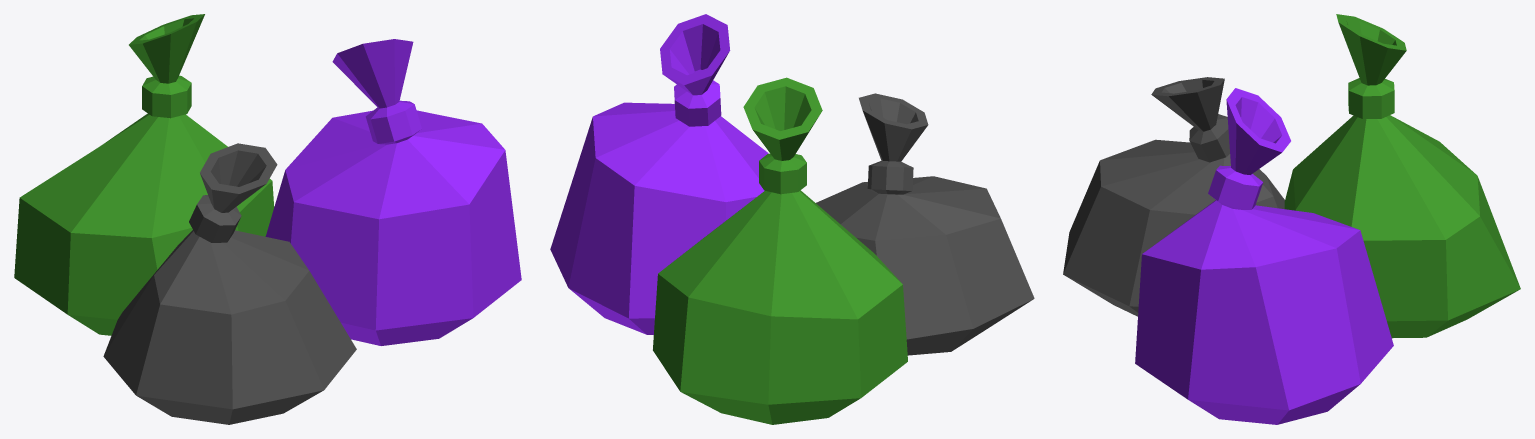
The model's file is Props_034.fbx.
3 renders of one model, left to right at view 1: azimuth 30°, elevation 25°; view 2: azimuth 150°, elevation 25°; view 3: azimuth 270°, elevation 25°, orthographic. The views are drawn at different scales.
Visible parts, largest first — view 1: Props_034; view 2: Props_034; view 3: Props_034.
Part boxes in pixels (x1,y1,x2,y2): Props_034: [14, 14, 521, 424]; Props_034: [550, 14, 1034, 424]; Props_034: [1063, 14, 1520, 424].
Bounding box in the file's own units: 0.9666 × 0.6472 × 0.9068.
